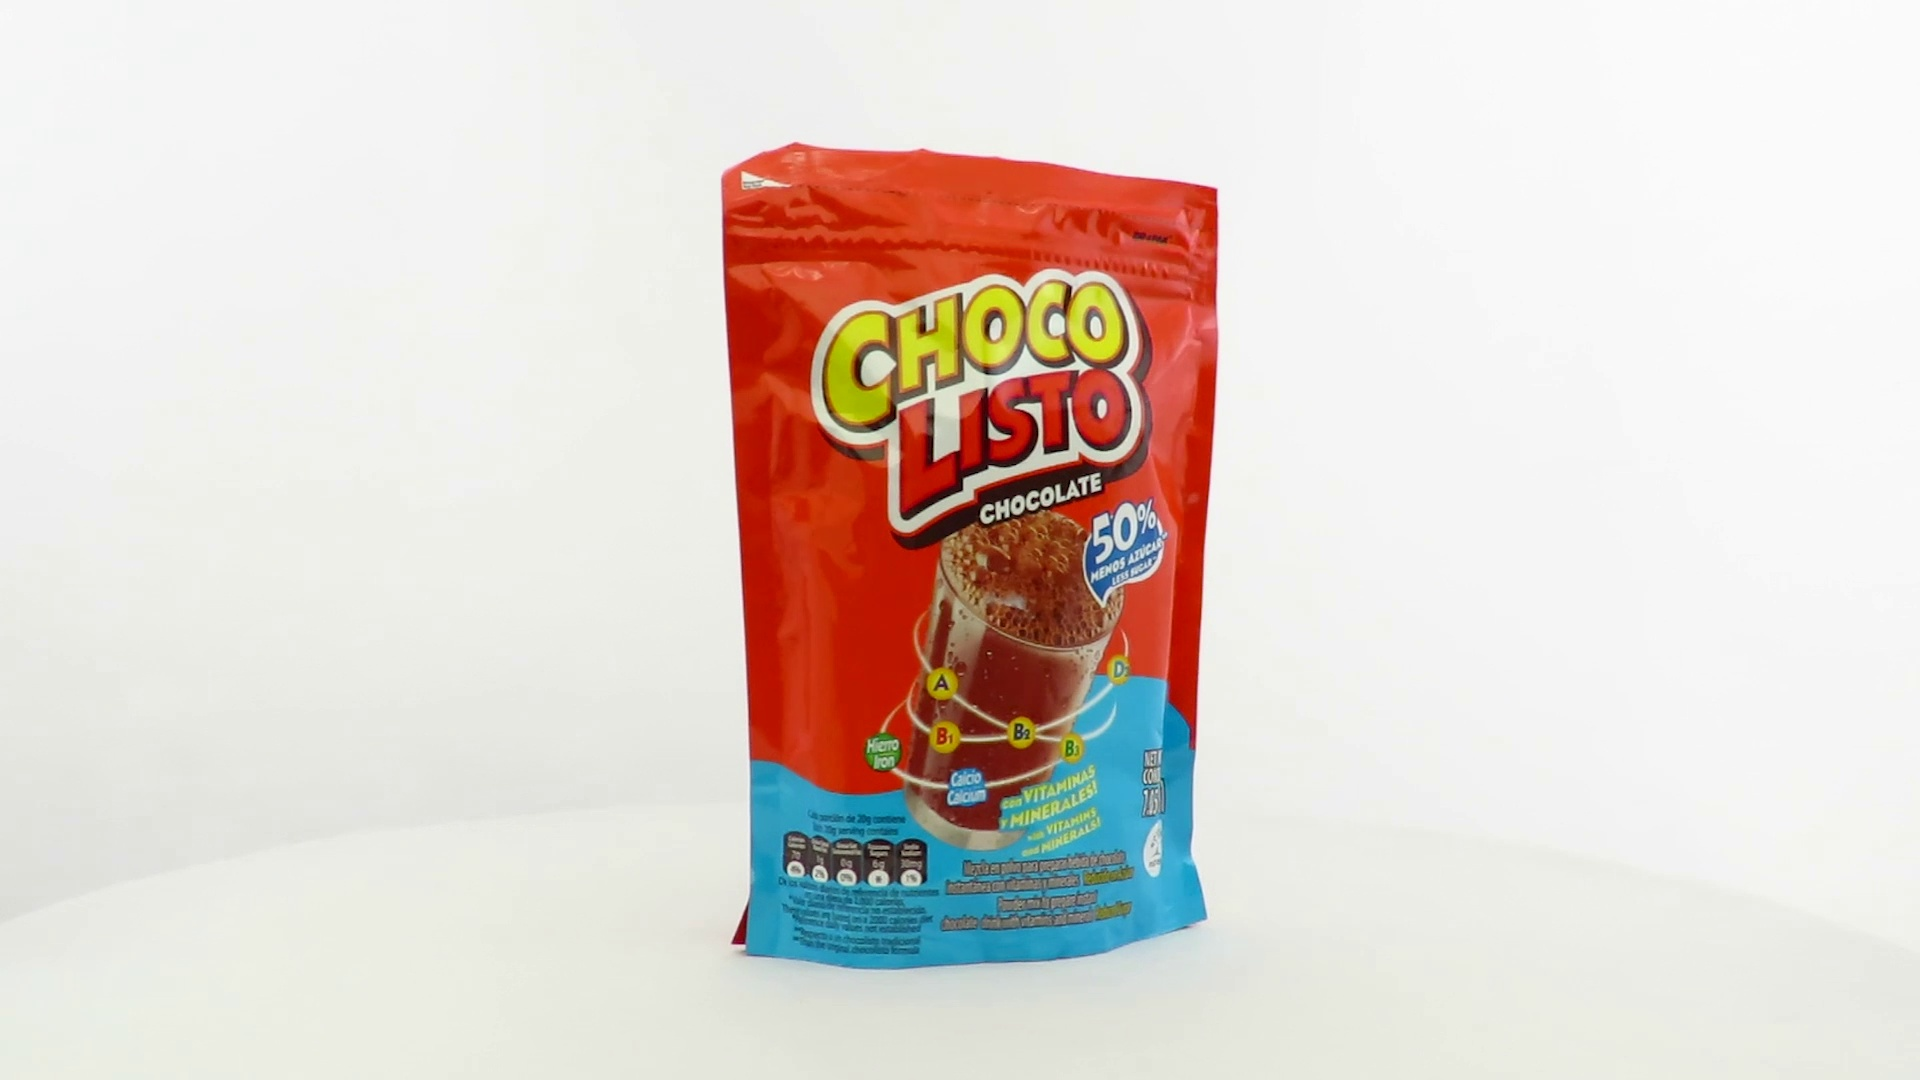COL0170104DYP20000: (716, 137, 1225, 976)
